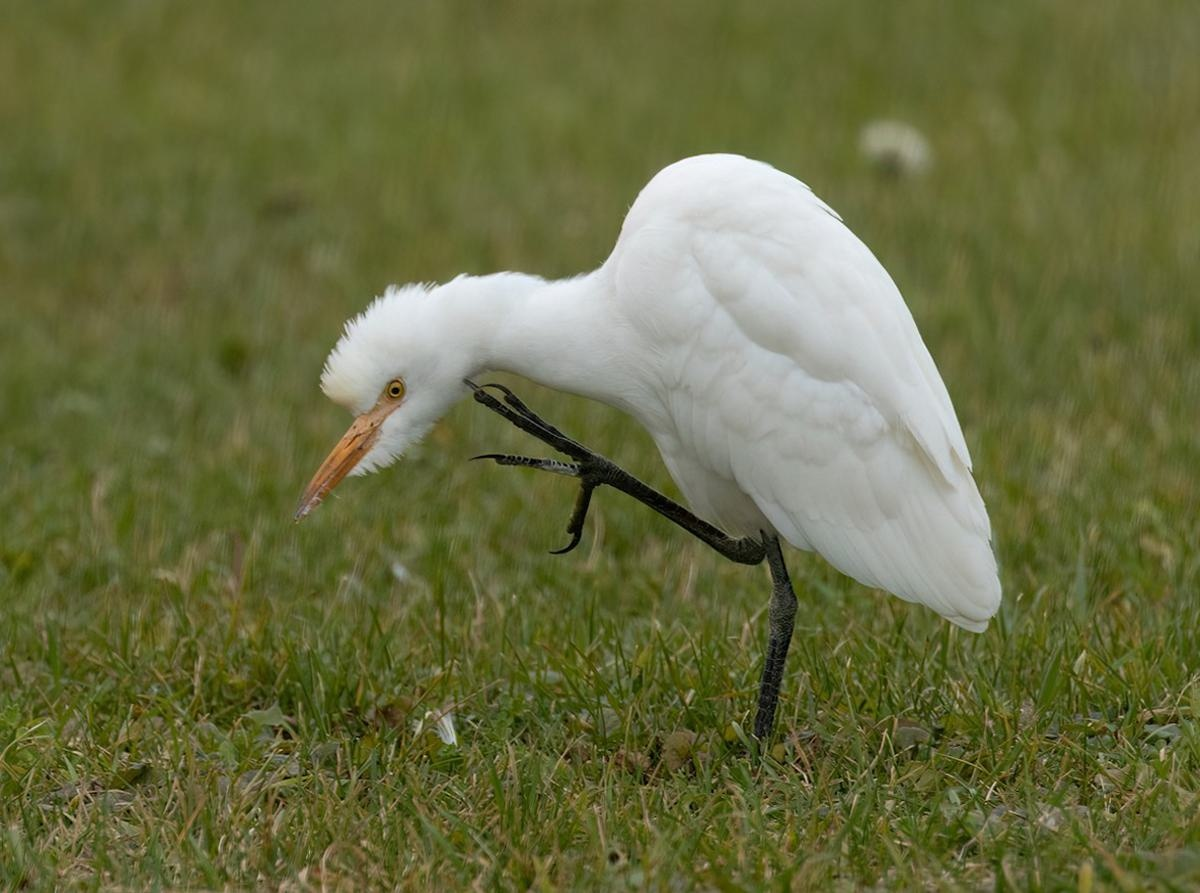egret: (283, 145, 1007, 733)
